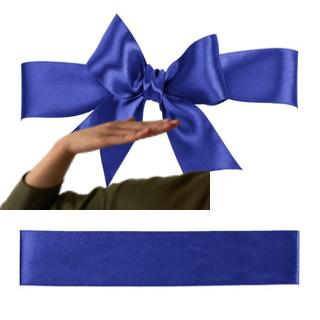WAIT: (63, 111, 183, 158)
